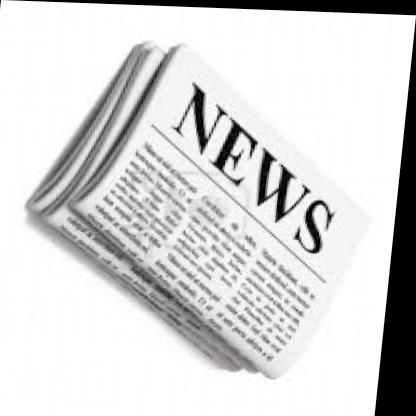Paper: (18, 34, 398, 394)
